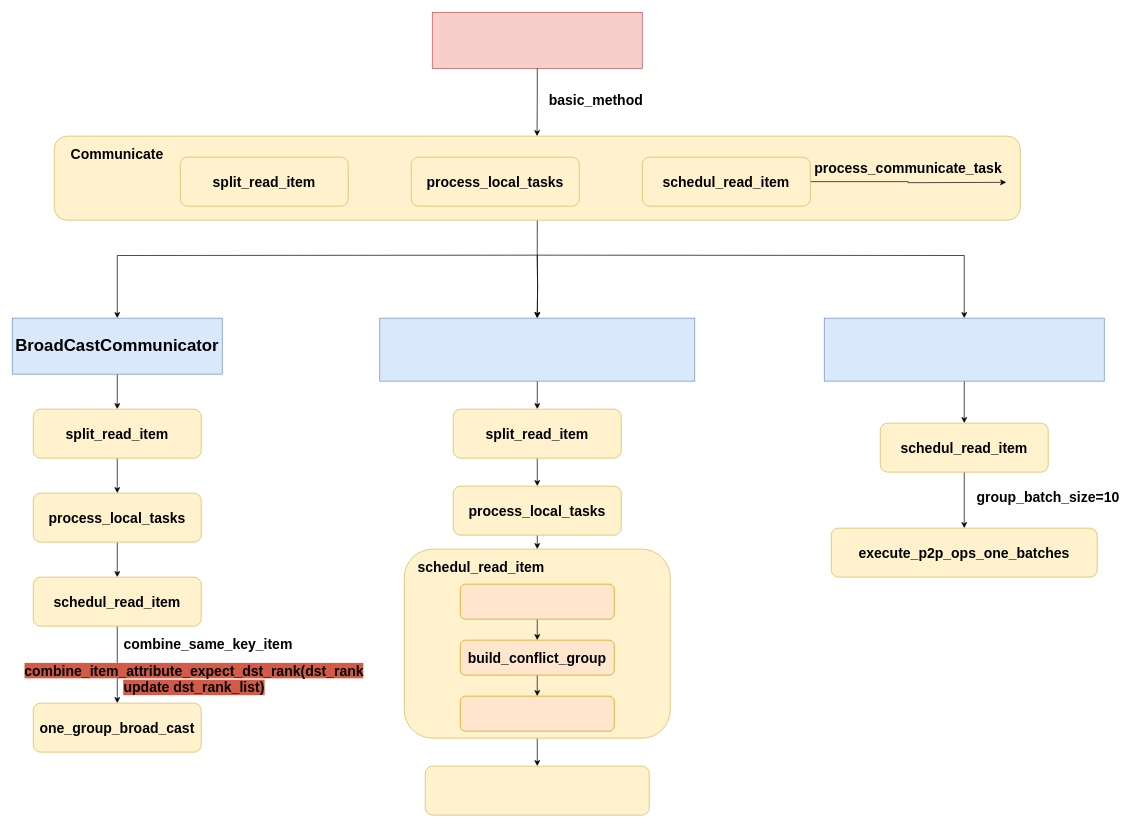
Some shapes in this 1132 by 827 pixel diagram are drawn without their labels. Here are the shapes that lost their labels. From the top down, the box of each, then its label:
(432, 12, 642, 68): AbstractCommunicator
(379, 317, 695, 381): MultiGroupBroadCastCommunicator
(824, 317, 1104, 381): SendRecvCommunicator
(460, 583, 614, 619): find_min_group
(460, 695, 614, 731): dscatur_coloring
(425, 765, 649, 815): multigroup_broad_cast_asyn
